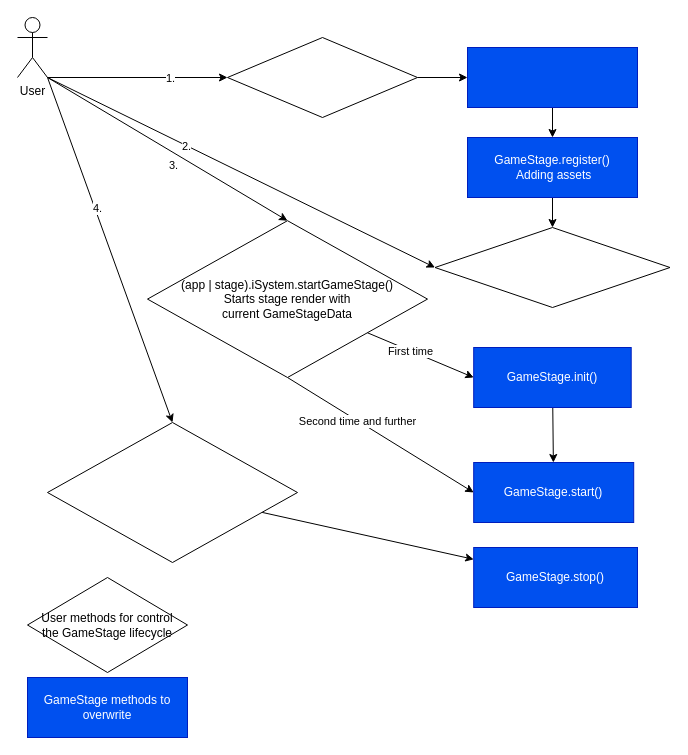
The diagram is 688 pixels wide and 755 high, and some of its shapes have lost their labels. The shapes that lost their labels are listed below. From the top down, each one's box as (x1, y1, x2, y2) in pixels, then its label:
(226, 36, 418, 118): app.regsterStage(stageKey)
(466, 46, 638, 108): GameStage.constructor()
(434, 226, 670, 308): app.preloadAllData() Loading assets
(46, 422, 298, 562): (app | stage).iSystem.stopGameStage() Stop stage render
